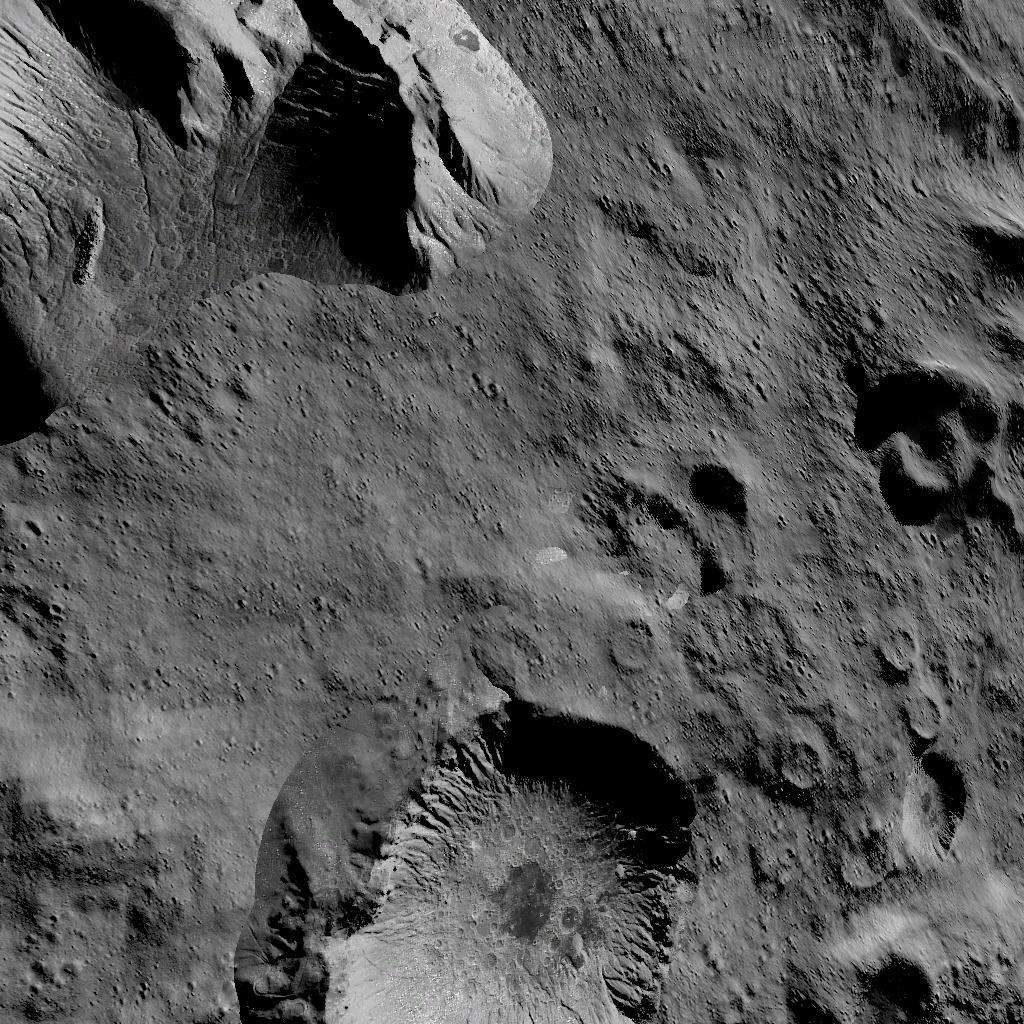Boulders: (3, 0, 554, 366)
Crater: (207, 691, 698, 1024), (813, 356, 1024, 540), (590, 451, 748, 604), (859, 616, 957, 857), (792, 908, 942, 1024), (758, 730, 816, 792), (592, 617, 650, 673)
Plan surface: (3, 374, 540, 680), (572, 0, 789, 436), (3, 692, 171, 1024)
